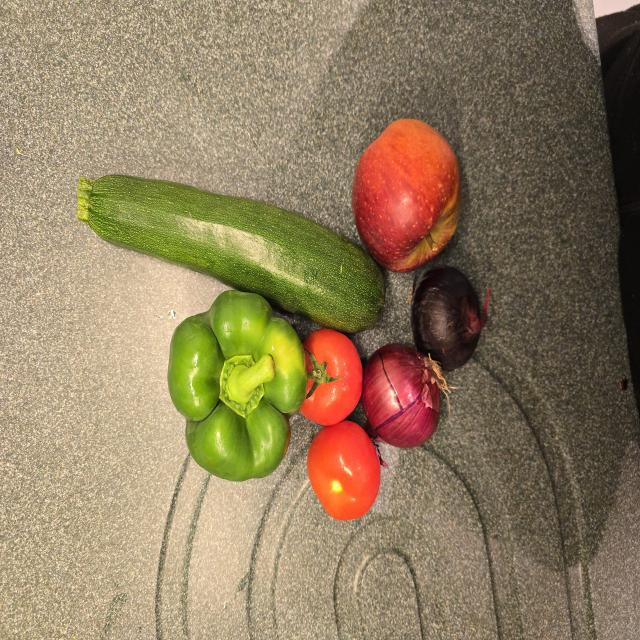Apple: (352, 119, 460, 272)
Bell Pepper: (167, 291, 306, 481)
Courgette: (78, 175, 385, 332)
Onion: (362, 344, 446, 447), (411, 266, 487, 371)
Tomato: (307, 420, 380, 520), (300, 329, 363, 425)
